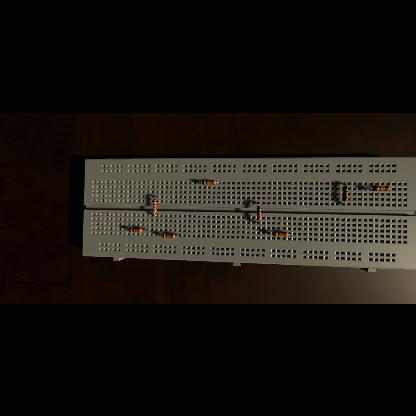breadboard: (82, 156, 416, 272)
resistor: (342, 186, 348, 200), (256, 206, 262, 220), (372, 186, 390, 190), (152, 200, 158, 212), (272, 232, 288, 236), (202, 180, 216, 184), (128, 227, 142, 231), (162, 233, 174, 237)
wire: (342, 182, 346, 186), (342, 200, 346, 204), (142, 228, 147, 230), (154, 196, 158, 198), (257, 202, 259, 206), (268, 232, 272, 234), (176, 234, 180, 236), (199, 181, 201, 183), (155, 213, 157, 215), (257, 220, 259, 222), (127, 228, 129, 230), (288, 232, 290, 234), (159, 234, 161, 236), (216, 182, 218, 182), (364, 188, 372, 188)
